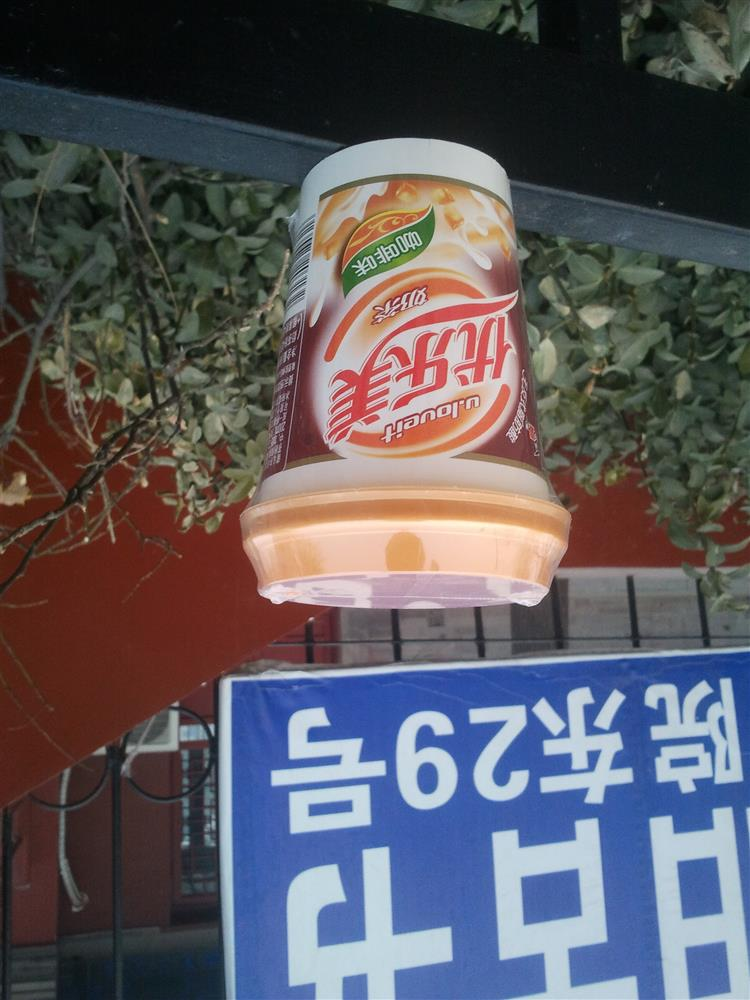u_loveit: (242, 136, 571, 609)
